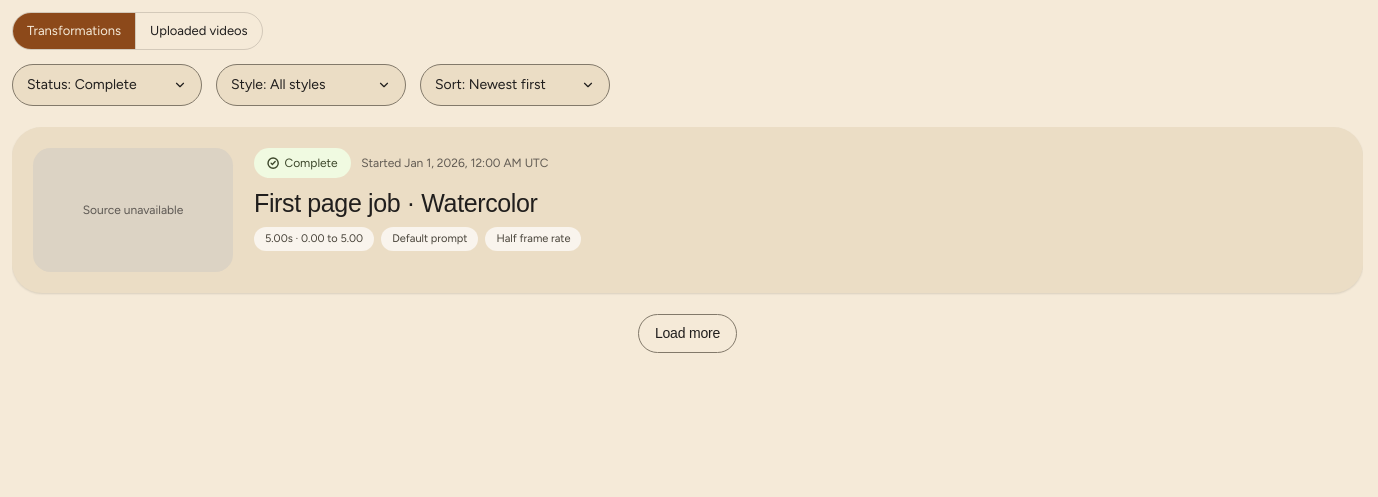
Scenario: HistoryView -- load more (jobs) › appends the next page using the shipped cursor, and requests it with the current filters
The width and height of the screenshot is (1378, 497).
Expected: the text "First page job" is shown, [254, 188, 400, 216]
Click the button "Load more" at (688, 334), box [638, 314, 737, 353]
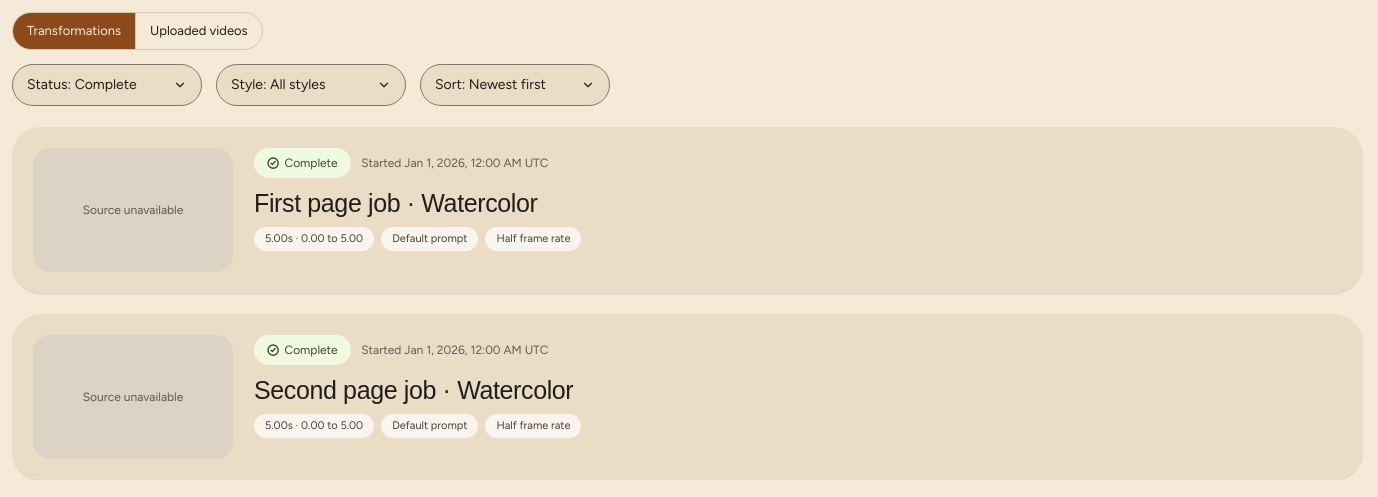
Expected: the text "First page job" is shown, [254, 188, 400, 216]
Now the text "Second page job" is shown, box [254, 376, 436, 404]
Now the button "Load more" is gone
